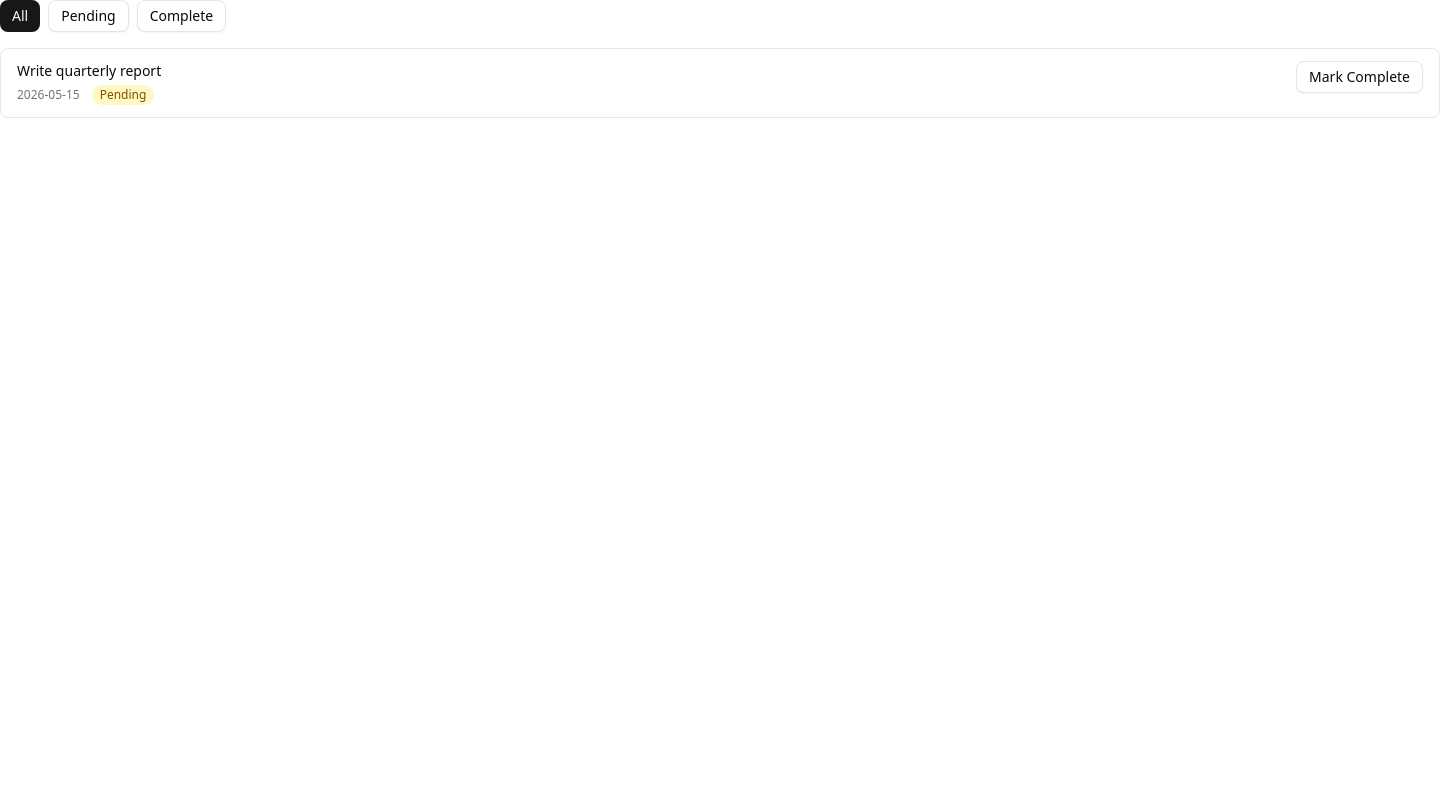
Test: AC-1: Team-member sees "Mark Complete" on their own pending task › AC-1: "Mark Complete" button is shown inside the task detail modal for a pending task
Click the text "Write quarterly report" at [89, 70], box [17, 61, 161, 80]
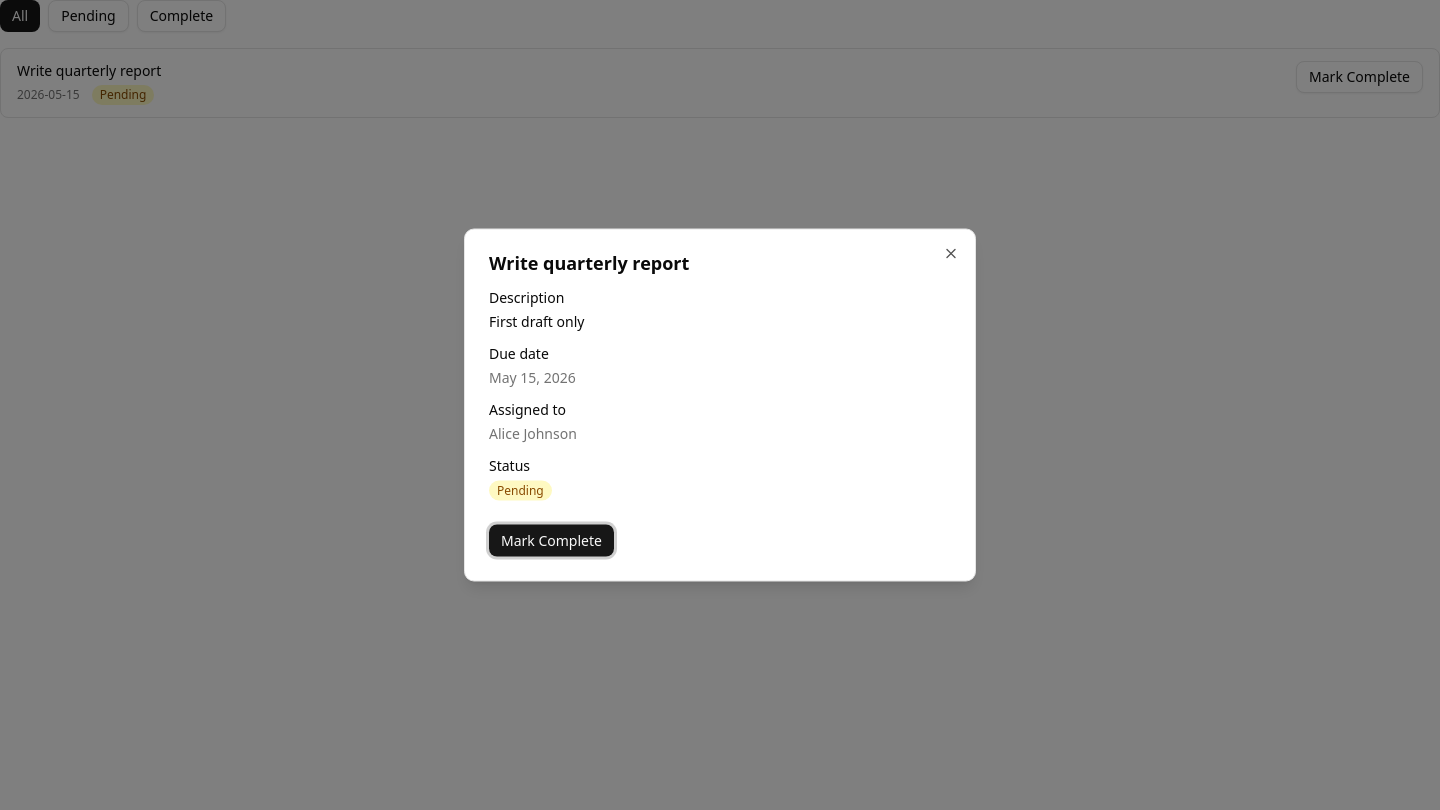
Now the dialog is shown, box [464, 228, 976, 582]
Now the button "Mark Complete" is shown, box [489, 524, 614, 556]
